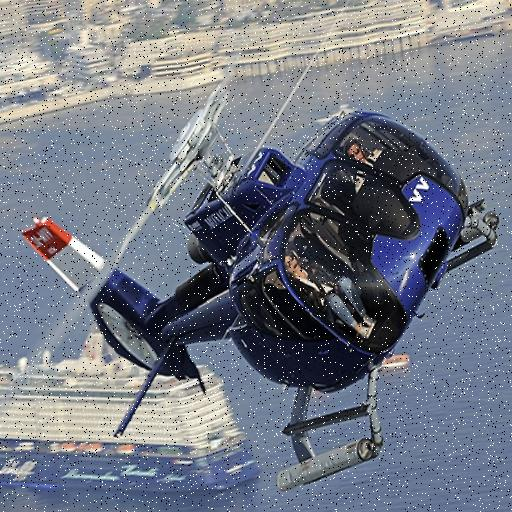helicopter: (23, 53, 499, 493)
